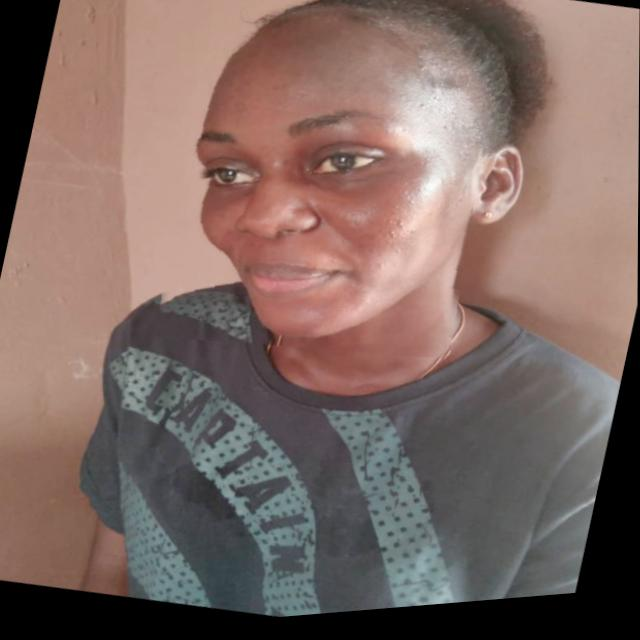happy: (143, 0, 517, 398)
